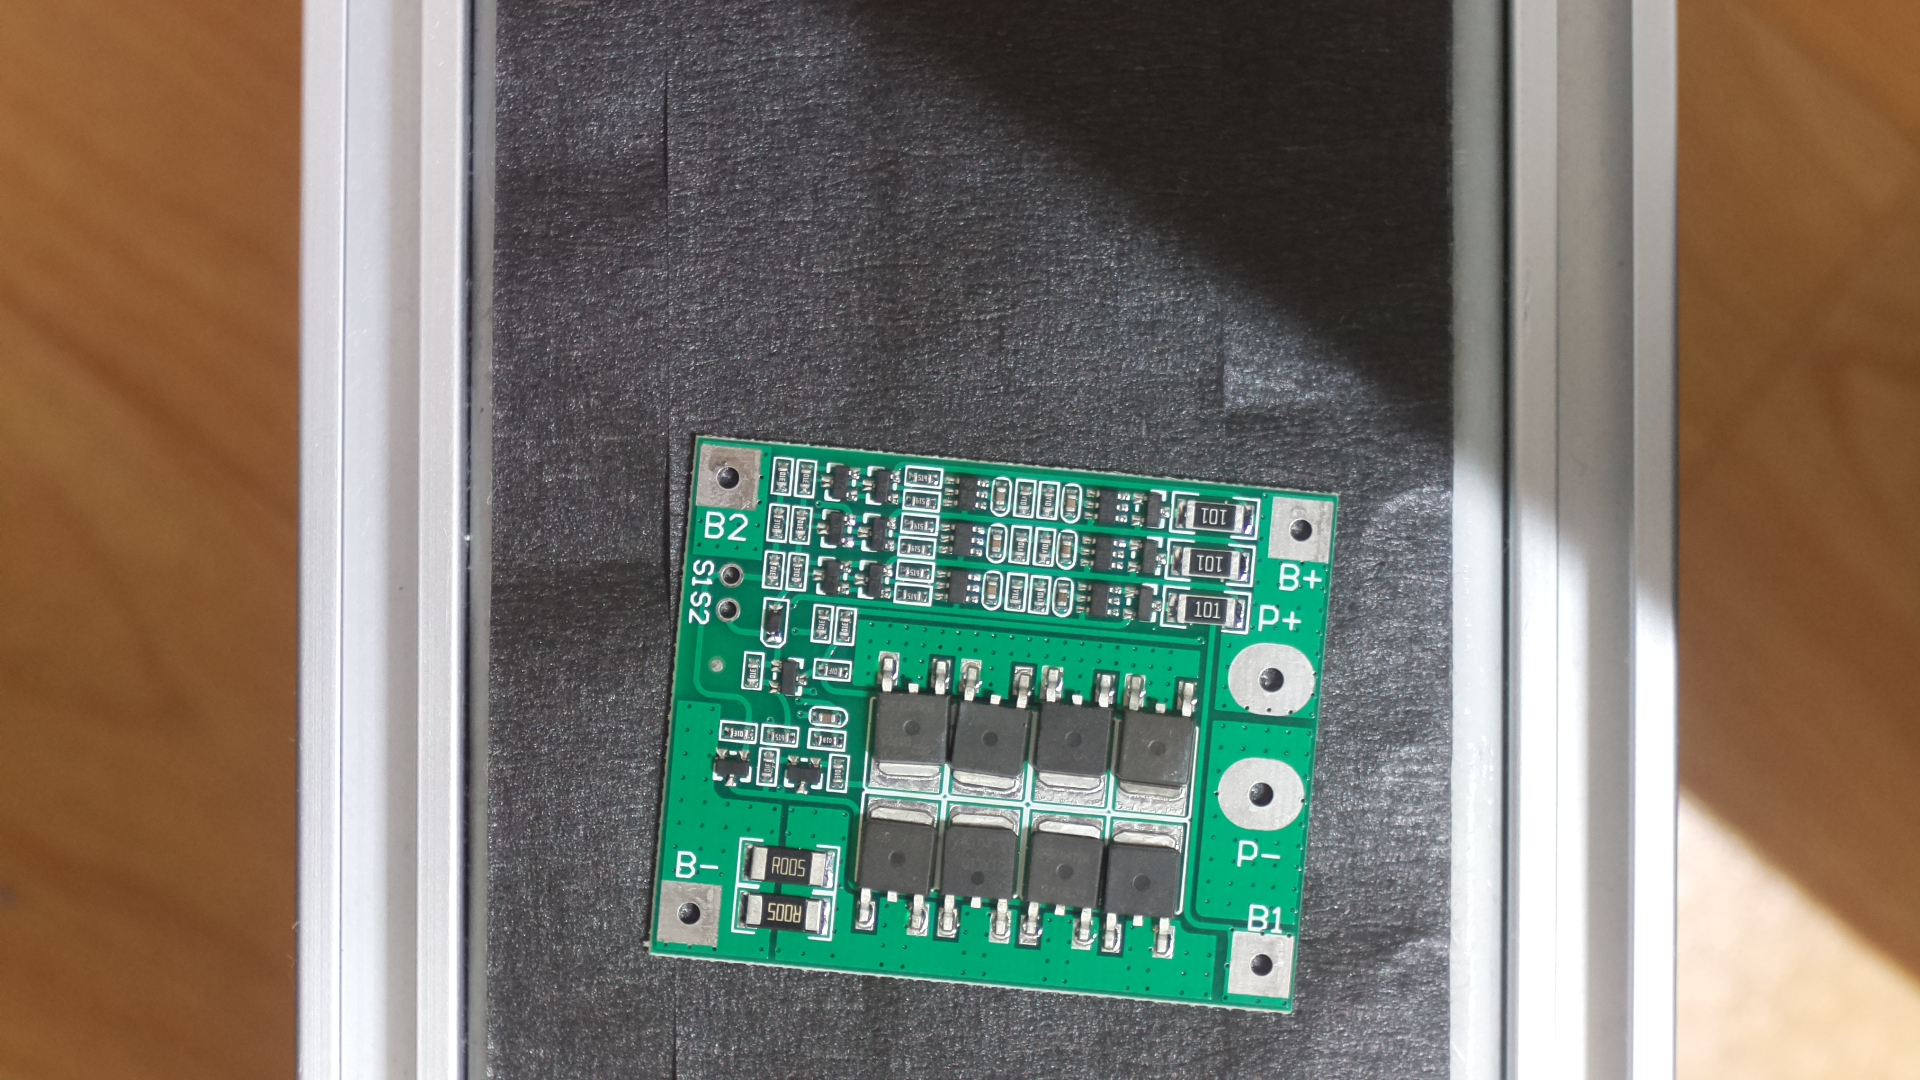C_Normal: (645, 418, 1353, 1035)
